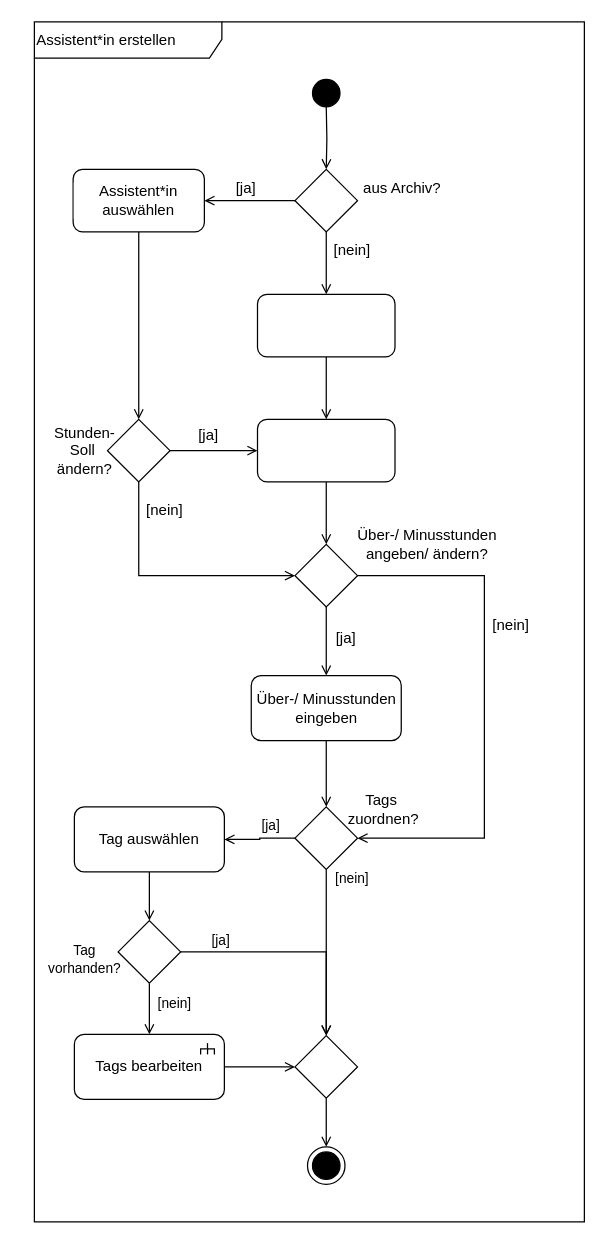
Image size: 606x1244. Some labels were removed from this diagram. The shapes that lost their labels are listed below. From the top down, each one's box as (x1, y1, x2, y2) in pixels, then its label:
(256, 293, 395, 357): Namen eingeben
(256, 418, 395, 482): Stunden-Soll eingeben
